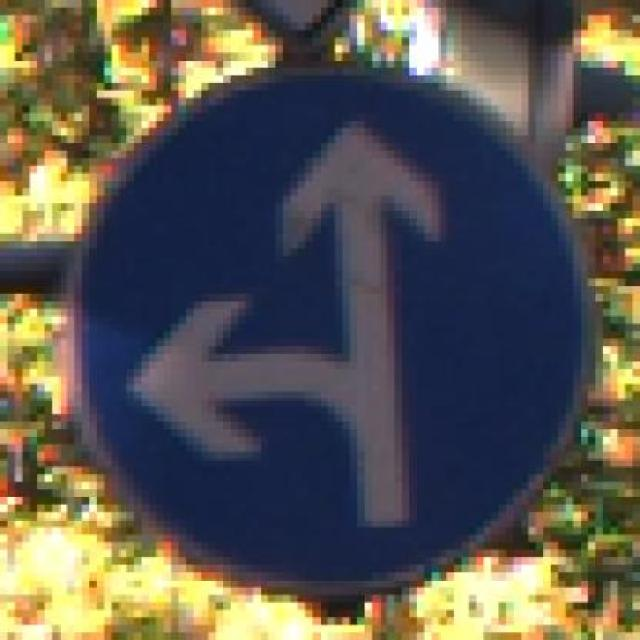Go straight or turn left: (60, 60, 603, 611)
